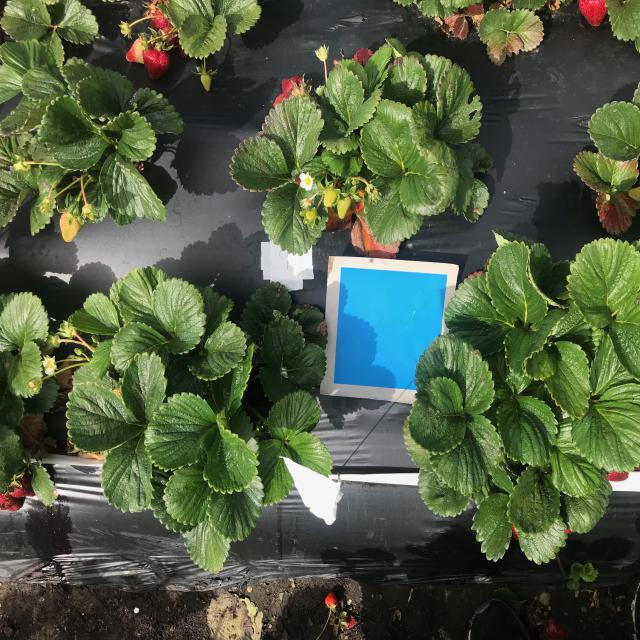partially-ripe: (43, 355, 56, 379), (300, 172, 315, 192)
ripe: (59, 210, 82, 244), (337, 195, 352, 221), (323, 186, 337, 210), (82, 202, 97, 222), (199, 73, 213, 92), (304, 211, 318, 223)
unripe: (143, 46, 172, 80), (577, 0, 610, 28), (150, 9, 180, 38), (8, 467, 36, 497), (279, 76, 316, 98), (0, 489, 27, 512), (124, 39, 147, 63), (604, 470, 630, 482), (324, 592, 339, 608)
